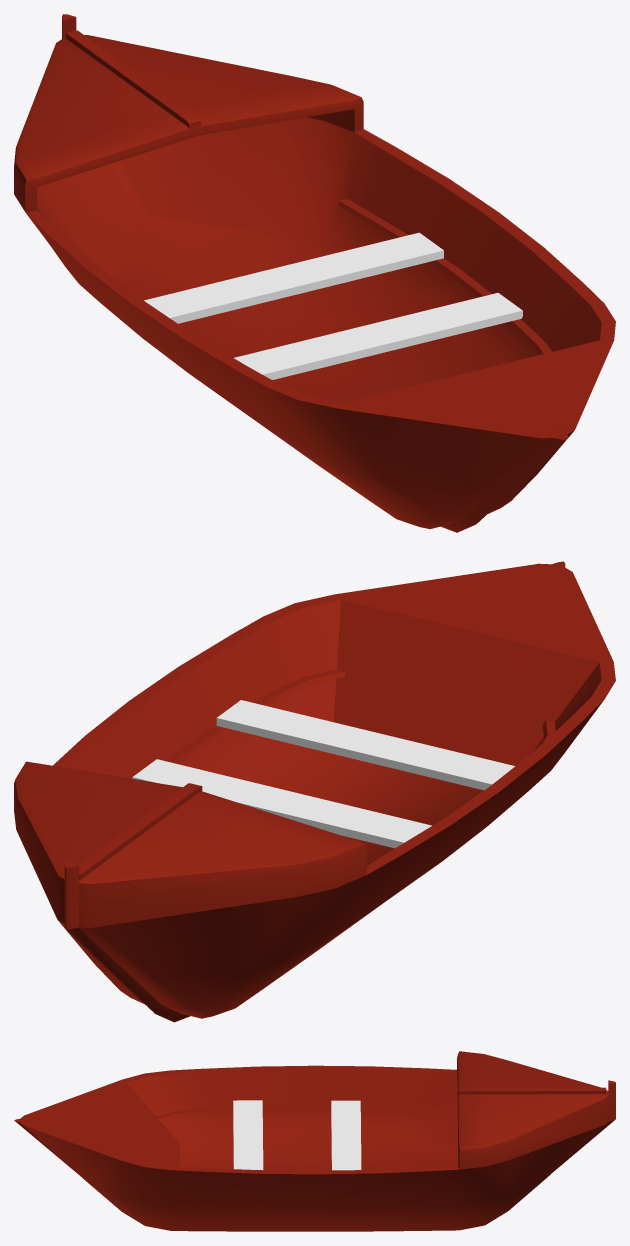
File: bote.fbx
3 renders of one model, top to bottom at view 1: azimuth 30°, elevation 25°; view 2: azimuth 150°, elevation 25°; view 3: azimuth 270°, elevation 25°, orthographic. The views are drawn at different scales.
Visible parts, largest first — view 1: Box002, Box004, Box003; view 2: Box002, Box003, Box004; view 3: Box002, Box004, Box003.
Part boxes in pixels (x1=…): Box002: x1=14, y1=14, x2=615, y2=532; Box004: x1=144, y1=232, x2=443, y2=323; Box003: x1=234, y1=293, x2=522, y2=379; Box002: x1=14, y1=561, x2=615, y2=1022; Box003: x1=216, y1=700, x2=514, y2=790; Box004: x1=132, y1=759, x2=431, y2=848; Box002: x1=14, y1=1051, x2=615, y2=1231; Box004: x1=331, y1=1100, x2=361, y2=1170; Box003: x1=233, y1=1100, x2=263, y2=1170.
Size of the model in its own units: 60.07 by 37.46 by 141.
